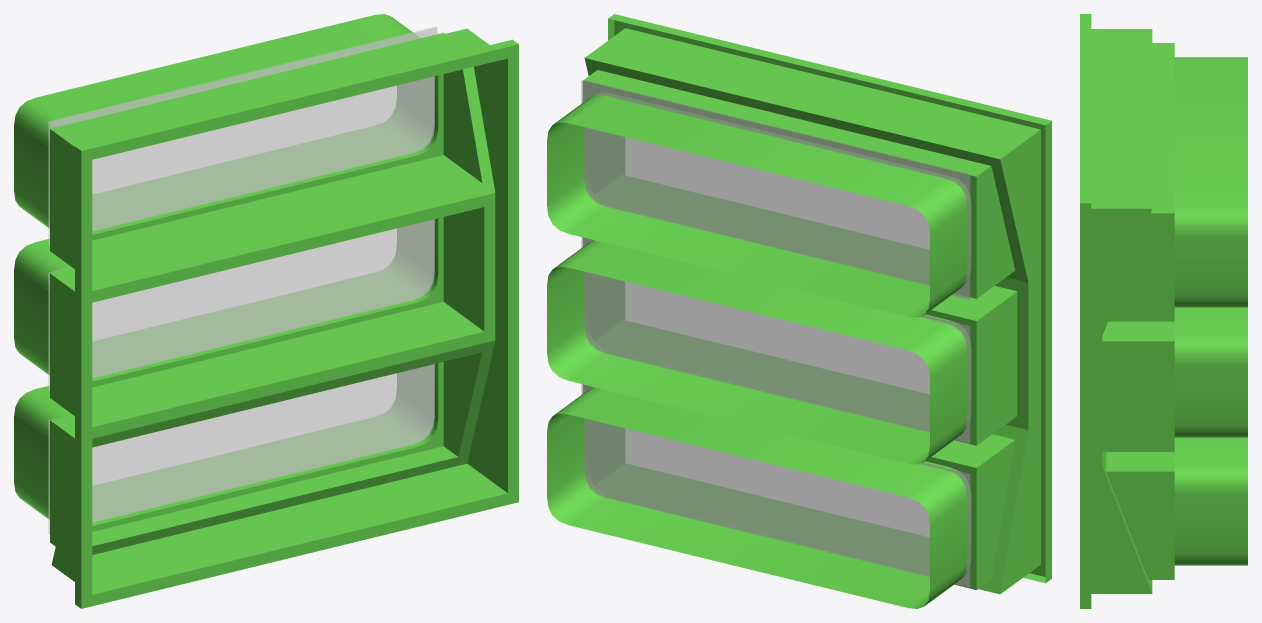
File: Wall_F_4x4m.FBX
The picture shows the model from 3 angles, left to right: view 1: azimuth 30°, elevation 25°; view 2: azimuth 150°, elevation 25°; view 3: azimuth 270°, elevation 25°; orthographic projection. The views are drawn at different scales.
Visible parts, largest first — view 1: Wall_F_4x4m; view 2: Wall_F_4x4m; view 3: Wall_F_4x4m.
Boxes of the visible parts, left/top/right/bottom form: Wall_F_4x4m: left=14, top=14, right=518, bottom=608; Wall_F_4x4m: left=547, top=14, right=1051, bottom=608; Wall_F_4x4m: left=1080, top=14, right=1247, bottom=608.
Size of the model in its own units: 400 by 400 by 150.
